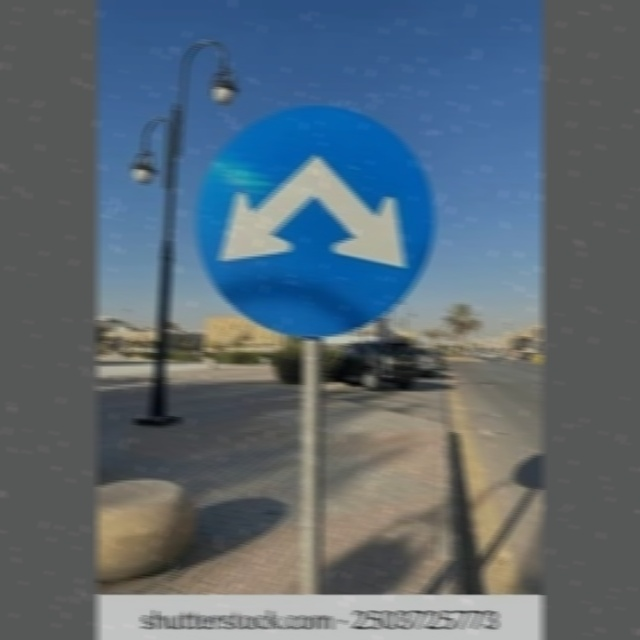Pass_Either_Side: (189, 102, 443, 334)
